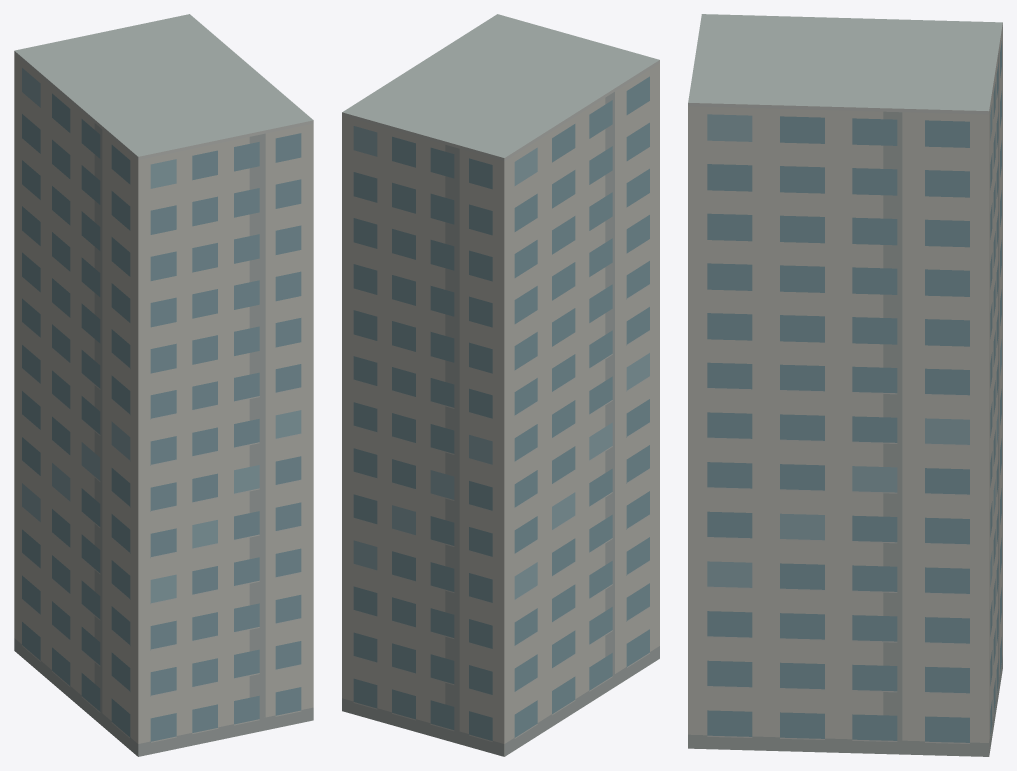
File: residential-b308a785-48e7-4fb2-a784-345710e0ef35.glb
The picture shows the model from 3 angles, left to right: view 1: azimuth 30°, elevation 25°; view 2: azimuth 150°, elevation 25°; view 3: azimuth 270°, elevation 25°; orthographic projection. The views are drawn at different scales.
Visible parts, largest first — view 1: residential-b308a785-48e7-4fb2-a784-345710e0ef35.tmp; view 2: residential-b308a785-48e7-4fb2-a784-345710e0ef35.tmp; view 3: residential-b308a785-48e7-4fb2-a784-345710e0ef35.tmp.
Boxes of the visible parts, x1,y1,x2,y2 form: residential-b308a785-48e7-4fb2-a784-345710e0ef35.tmp: (14,14,313,756); residential-b308a785-48e7-4fb2-a784-345710e0ef35.tmp: (342,14,659,756); residential-b308a785-48e7-4fb2-a784-345710e0ef35.tmp: (688,14,1002,756).
Size of the model in its own units: 14.53 by 45 by 19.89.
